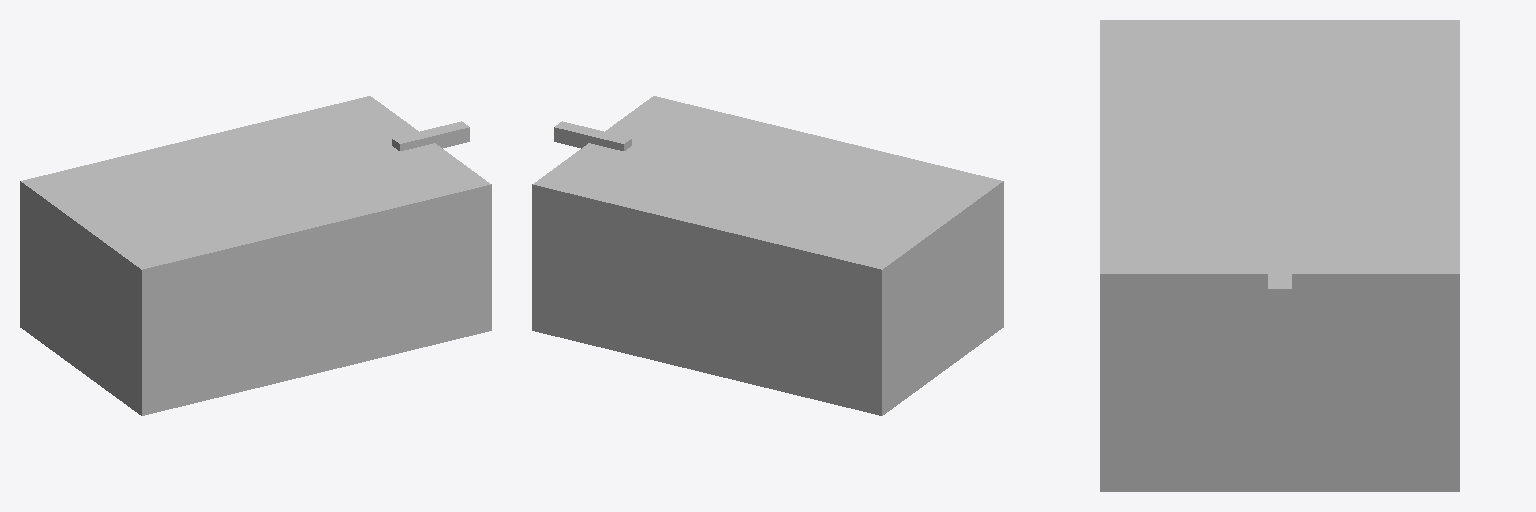
URDF robot description (car):
<?xml version="1.0"?>
<robot name="car">
    <material name="grey">
        <color rgba="0.8 0.8 0.8 1.0"/>
    </material>

    <link name="base">
        <visual>
            <geometry>
                <box size="0.5 0.3 0.2"/>
            </geometry>
            <material name="grey"/>
        </visual>
        <collision>
            <origin rpy="0 0 0" xyz="0 0 0.017"/>
            <geometry>
                <box size="0.5 0.3 0.2"/>
            </geometry>
        </collision>
    </link>

    <link name="camera">
        <visual>
            <geometry>
                <box size="0.1 0.02 0.02"/>
            </geometry>
            <material name="grey"/>
        </visual>
        <collision>
            <origin rpy="0 0 0" xyz="0 0 0.017"/>
            <geometry>
                <box size="0.1 0.02 0.02"/>
            </geometry>
        </collision>
    </link>

    <joint name="base_to_camera" type="continuous">
        <parent link="base"/>
        <child link="camera"/>
        <origin xyz="0.25 0 0.1"/>
        <axis xyz="0 0 1"/>
    </joint>

</robot>

--- Render facts (derived) ---
3 views of the same robot in one strip: view 1: azimuth 30°, elevation 25°; view 2: azimuth 150°, elevation 25°; view 3: azimuth 270°, elevation 25° (orthographic).
Model car with 2 links and 1 joints (1 continuous), rooted at base, posed every joint at zero.
Visible links, largest first — view 1: base, camera; view 2: base, camera; view 3: base, camera.
Link boxes in pixels (x1,y1,x2,y2): base: [20, 96, 491, 415]; camera: [392, 121, 469, 150]; base: [532, 96, 1003, 415]; camera: [554, 121, 631, 150]; base: [1100, 20, 1459, 491]; camera: [1268, 238, 1291, 309].
Size in the robot's own frame: 0.55 by 0.3 by 0.21 metres.
Geometry: primitives only (box / cylinder / sphere), no mesh files.